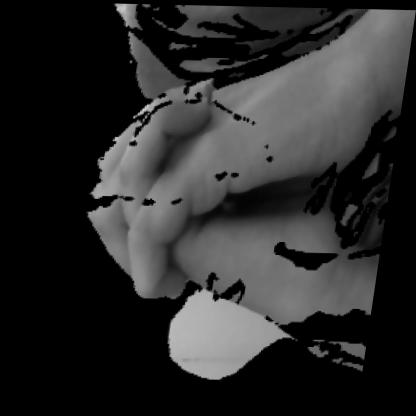prayer: (54, 3, 414, 338)
